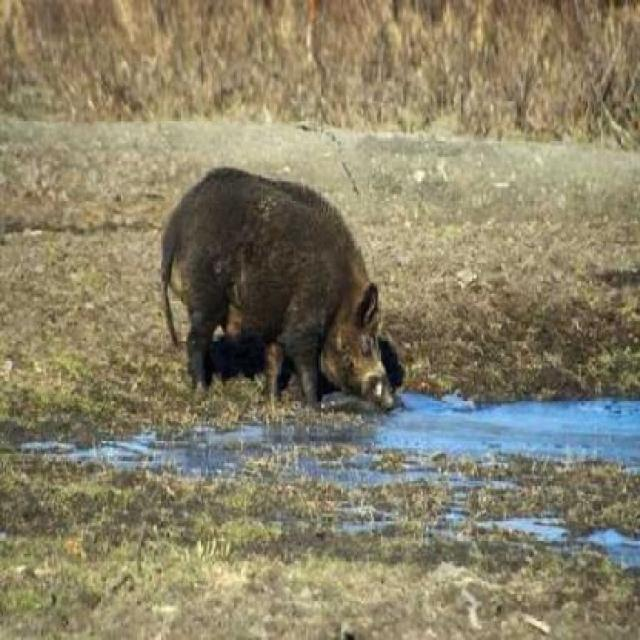pig: (142, 112, 496, 517)
